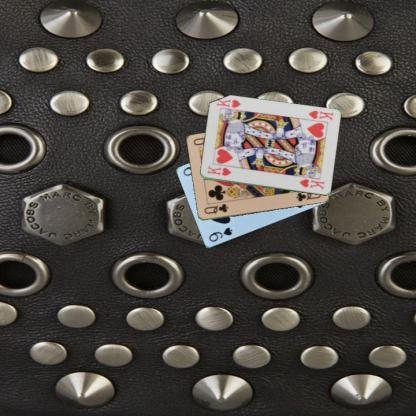9s: (206, 225, 234, 243)
Kh: (306, 108, 335, 122), (204, 164, 232, 178)
Qc: (202, 202, 229, 216)
